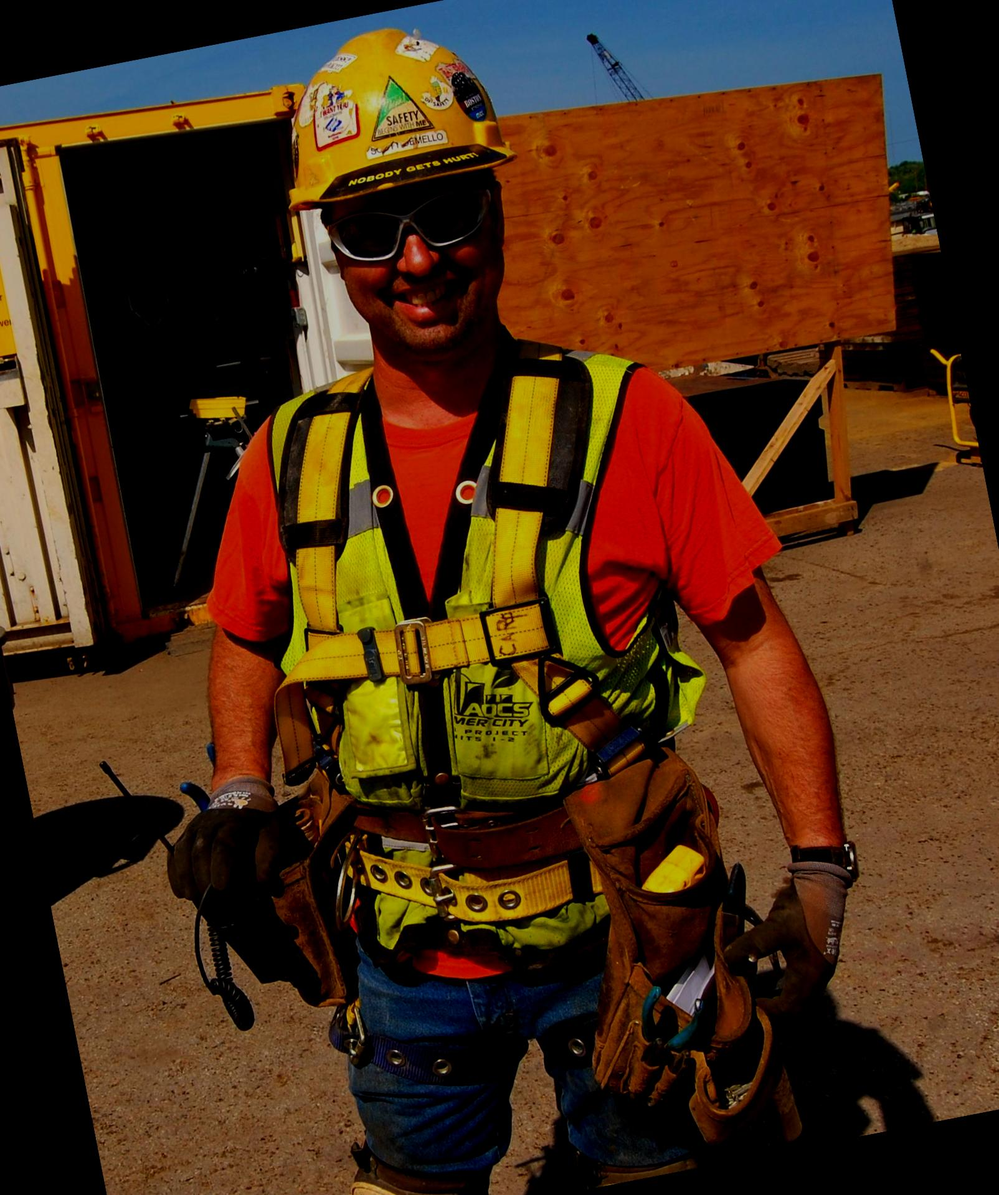helmet: (249, 4, 551, 224)
person: (78, 0, 917, 1178)
